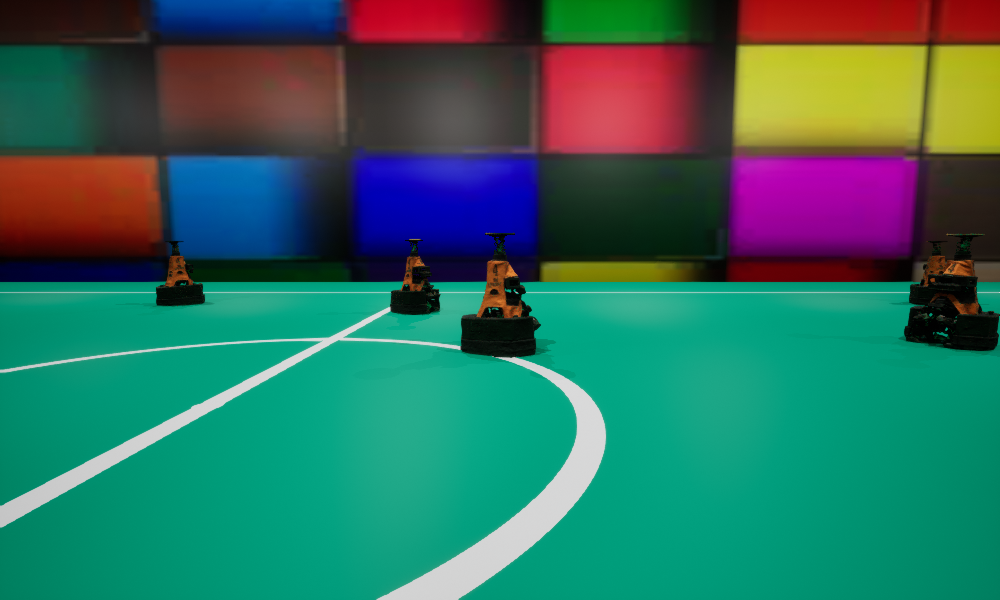0 orange robot TechUnited: (904, 233, 999, 349), (461, 233, 540, 357), (390, 239, 440, 314), (156, 241, 204, 305), (909, 241, 947, 305)
